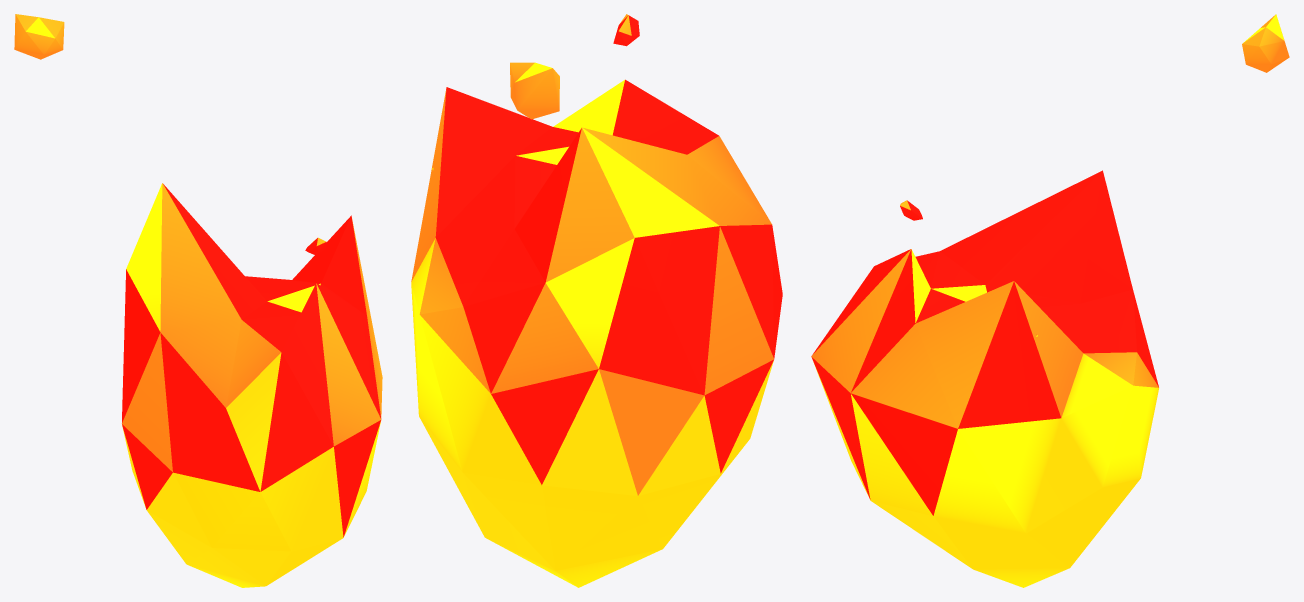
The model's file is FireAnimado.fbx.
3 views of the same model, side by side, from view 1: azimuth 30°, elevation 25°; view 2: azimuth 150°, elevation 25°; view 3: azimuth 270°, elevation 25° (orthographic). The views are drawn at different scales.
Parts seen in each view (by area): view 1: Fire, Ember.001; view 2: Fire, Ember.001, Ember.003; view 3: Fire, Ember.001.
Part boxes in pixels (bbox=[...]): Fire: bbox=[122, 183, 382, 587]; Ember.001: bbox=[14, 14, 64, 59]; Fire: bbox=[411, 79, 782, 587]; Ember.001: bbox=[510, 62, 559, 119]; Ember.003: bbox=[613, 14, 639, 46]; Fire: bbox=[811, 170, 1158, 587]; Ember.001: bbox=[1242, 14, 1289, 72].
Bounding box in the file's own units: 193 × 433 × 359.
